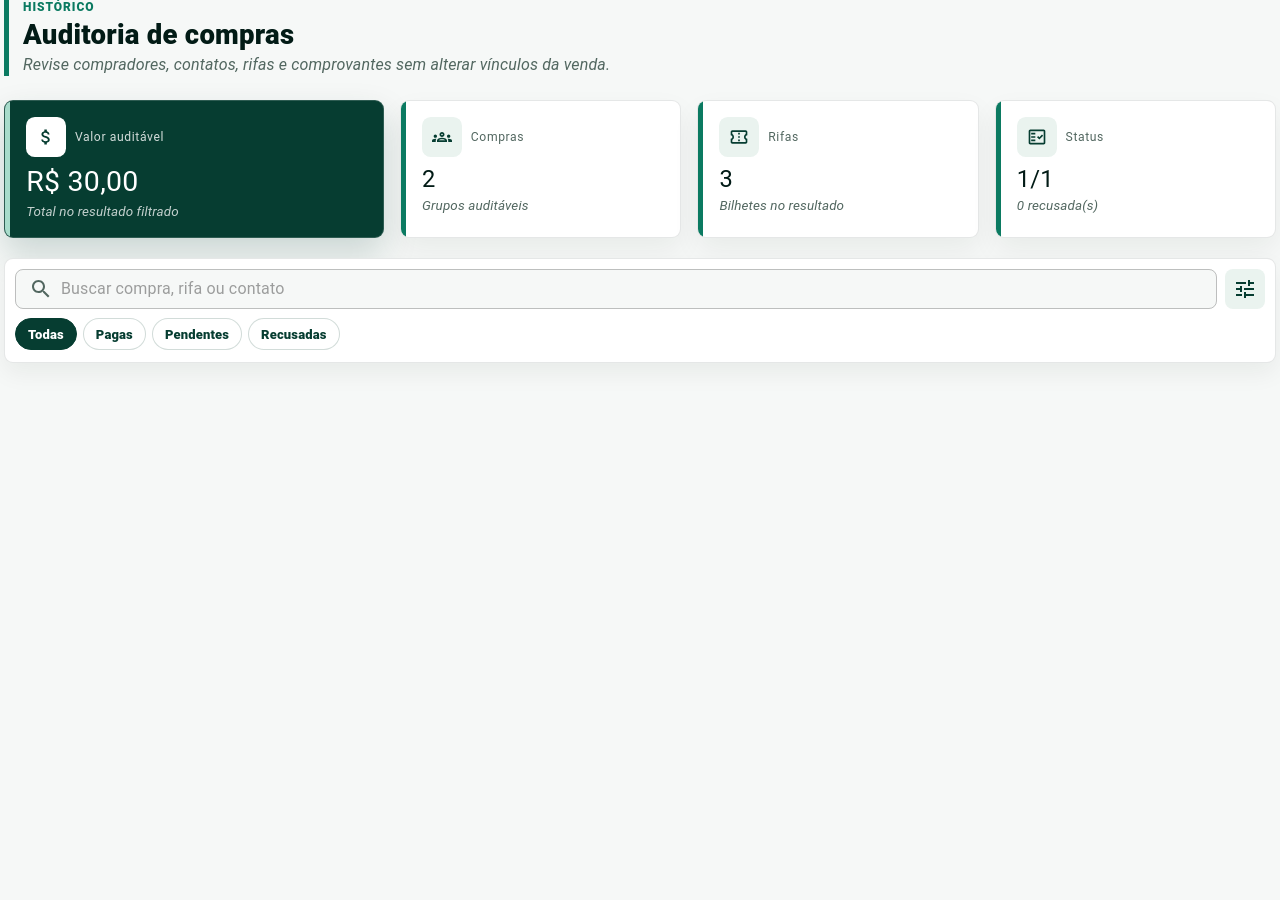
Página <AuditoriaComprasPage /> › Deve renderizar filtros mobile recolhíveis e cards de compra
Check: the field with placeholder "Buscar compra, rifa ou contato" is shown, box [61, 269, 1217, 309]
Click the button named "abrir filtros de auditoria": [1245, 289] box [1225, 269, 1265, 309]
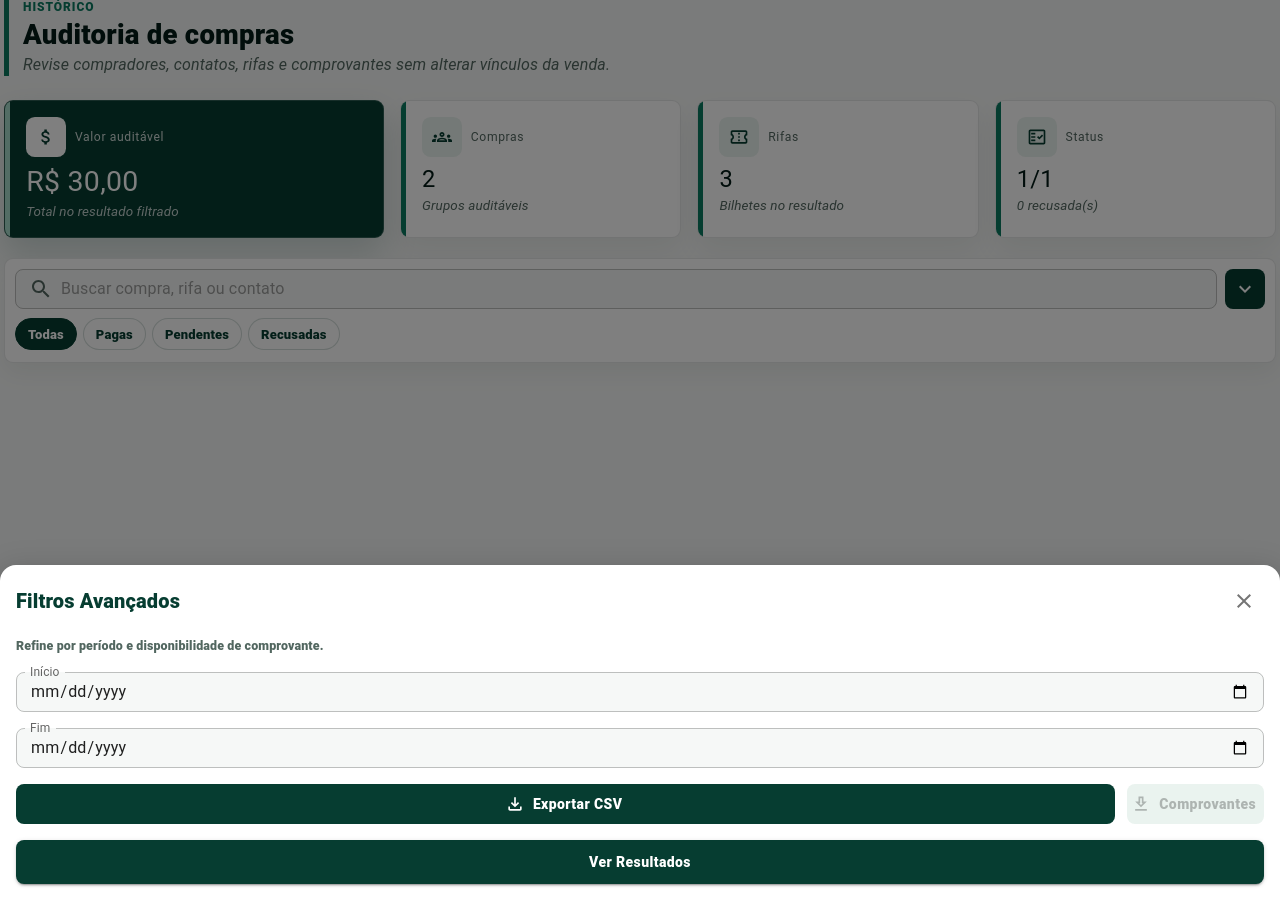
Check: the date field labelled "Início" is shown, box [16, 672, 1264, 712]
Check: the date field labelled "Fim" is shown, box [16, 728, 1264, 768]
